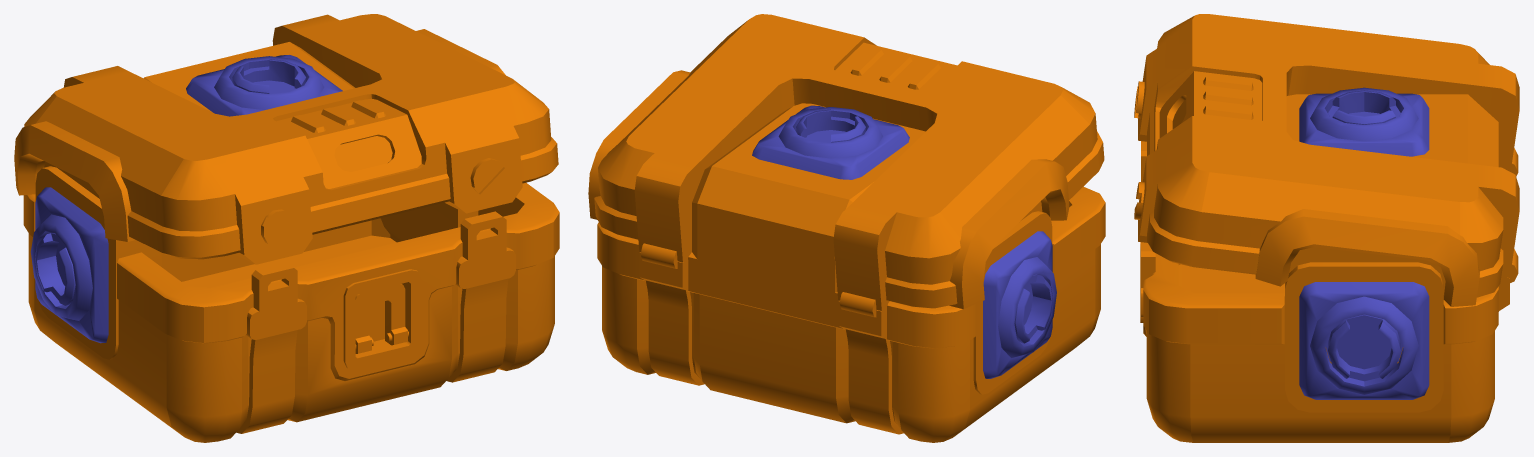
Rendered from obj_interactive_chest_pose0.fbx.
3 renders of one model, left to right at view 1: azimuth 30°, elevation 25°; view 2: azimuth 150°, elevation 25°; view 3: azimuth 270°, elevation 25°, orthographic. The views are drawn at different scales.
Visible parts, largest first — view 1: obj_interactive_chest_pose3; view 2: obj_interactive_chest_pose3; view 3: obj_interactive_chest_pose3.
Boxes of the visible parts, box(x1,y1,x2,y2) form: obj_interactive_chest_pose3: box(14, 14, 559, 442); obj_interactive_chest_pose3: box(588, 14, 1105, 442); obj_interactive_chest_pose3: box(1134, 14, 1519, 442).
Size of the model in its own units: 5.71 by 3.48 by 4.43.
